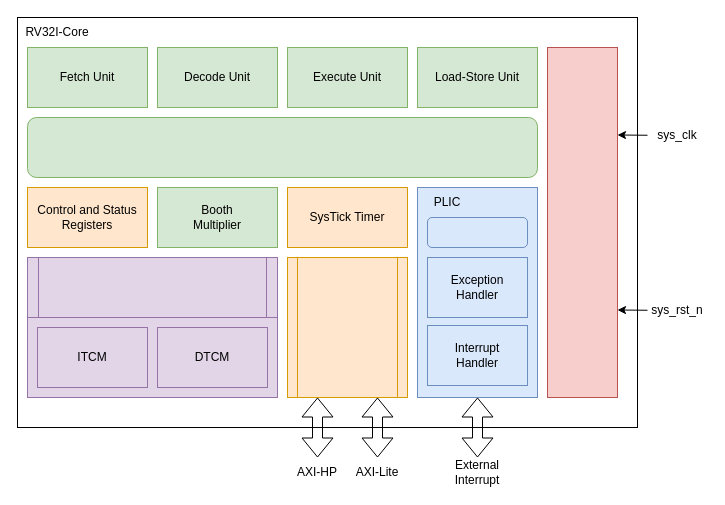
Some shapes in this 725 by 505 pixel diagram are drawn without their labels. Here are the shapes that lost their labels. From the top down, the box of each, then its label:
(26, 116, 538, 178): Regfile
(426, 216, 528, 248): Committer
(546, 46, 618, 398): Core Reset and Clock Config Unit
(26, 256, 278, 318): TCM Control Unit
(286, 256, 408, 398): Bus Control Unit
